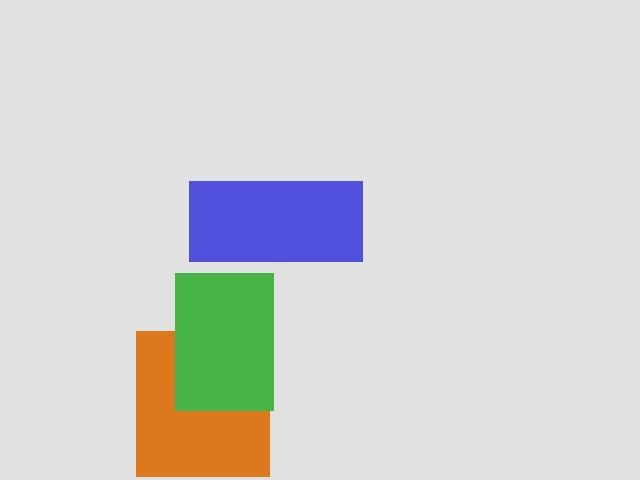square: (136, 331, 269, 476)
tall_box: (189, 181, 362, 261)
wide_box: (175, 273, 273, 410)
